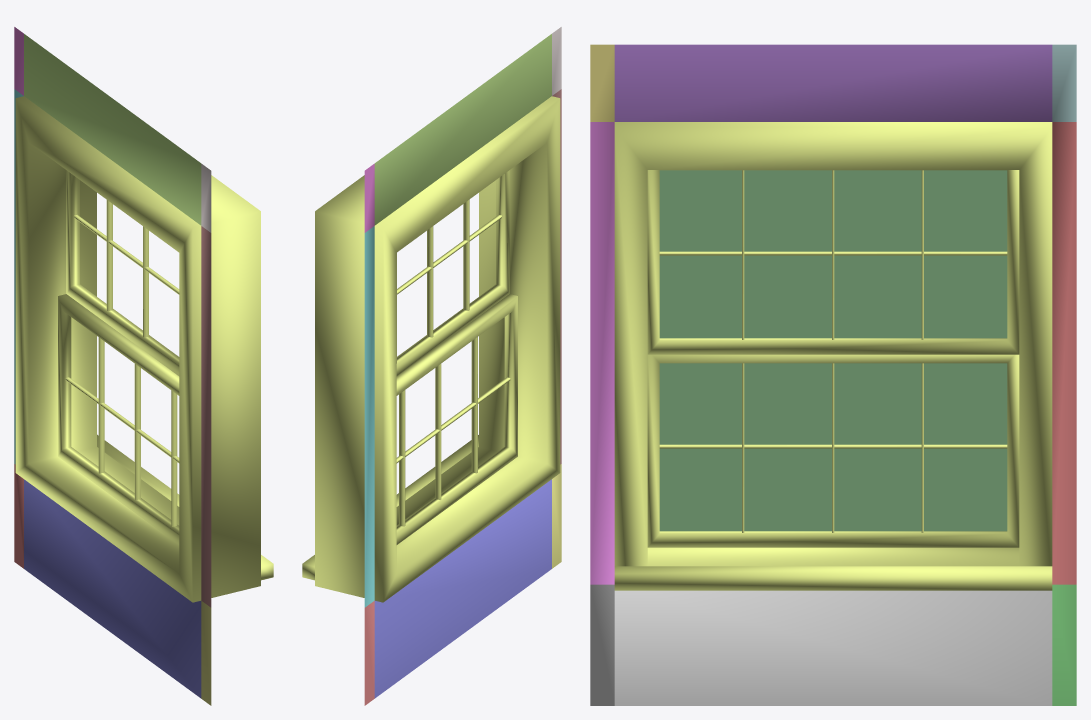
File: SM_window_03_half.gltf
3 views of the same model, side by side, from view 1: azimuth 30°, elevation 25°; view 2: azimuth 150°, elevation 25°; view 3: azimuth 270°, elevation 25° (orthographic). The views are drawn at different scales.
Parts seen in each view (by area): view 1: SM_window_03_half; view 2: SM_window_03_half; view 3: SM_window_03_half.
Part boxes in pixels (box(x1,y1,x2,y2)): SM_window_03_half: box(14, 27, 273, 705); SM_window_03_half: box(302, 27, 561, 705); SM_window_03_half: box(590, 44, 1076, 705).
Bounding box in the file's own units: 0.4744 × 3 × 2.
